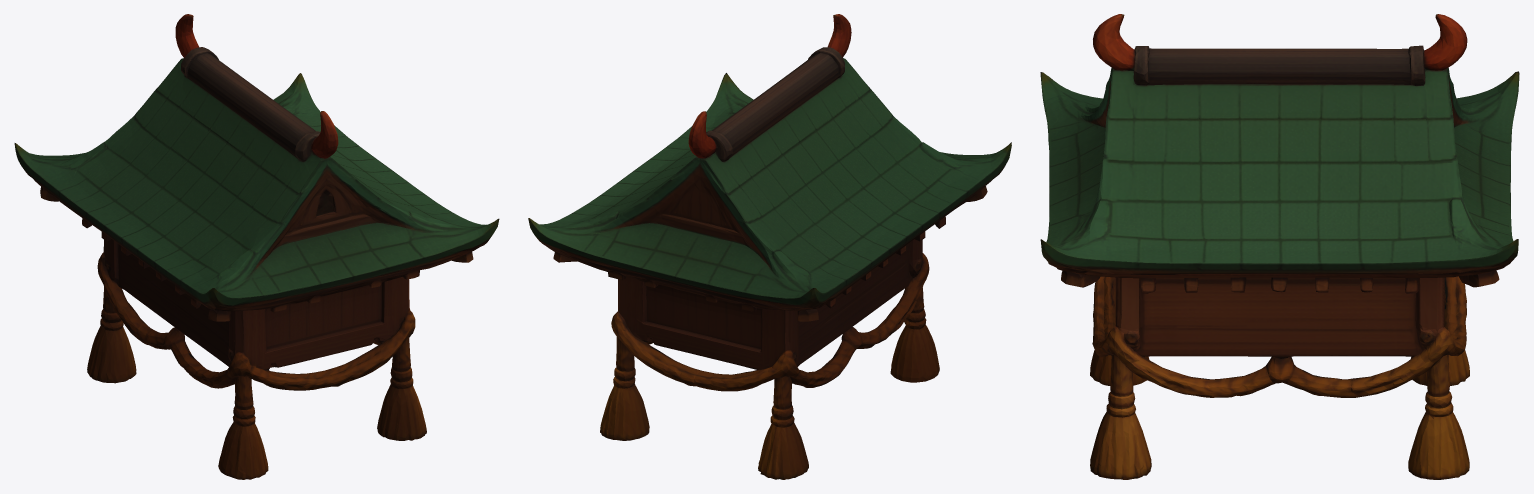
File: roof.glb
3 renders of one model, left to right at view 1: azimuth 30°, elevation 25°; view 2: azimuth 150°, elevation 25°; view 3: azimuth 270°, elevation 25°, orthographic. The views are drawn at different scales.
Visible parts, largest first — view 1: world; view 2: world; view 3: world.
Part boxes in pixels (box(x1,y1,x2,y2)): world: box(14, 14, 499, 479); world: box(528, 14, 1011, 479); world: box(1040, 14, 1519, 479).
Size of the model in its own units: 0.7424 by 0.8358 by 0.8907.
Materials: 1 (1 with a texture image).
